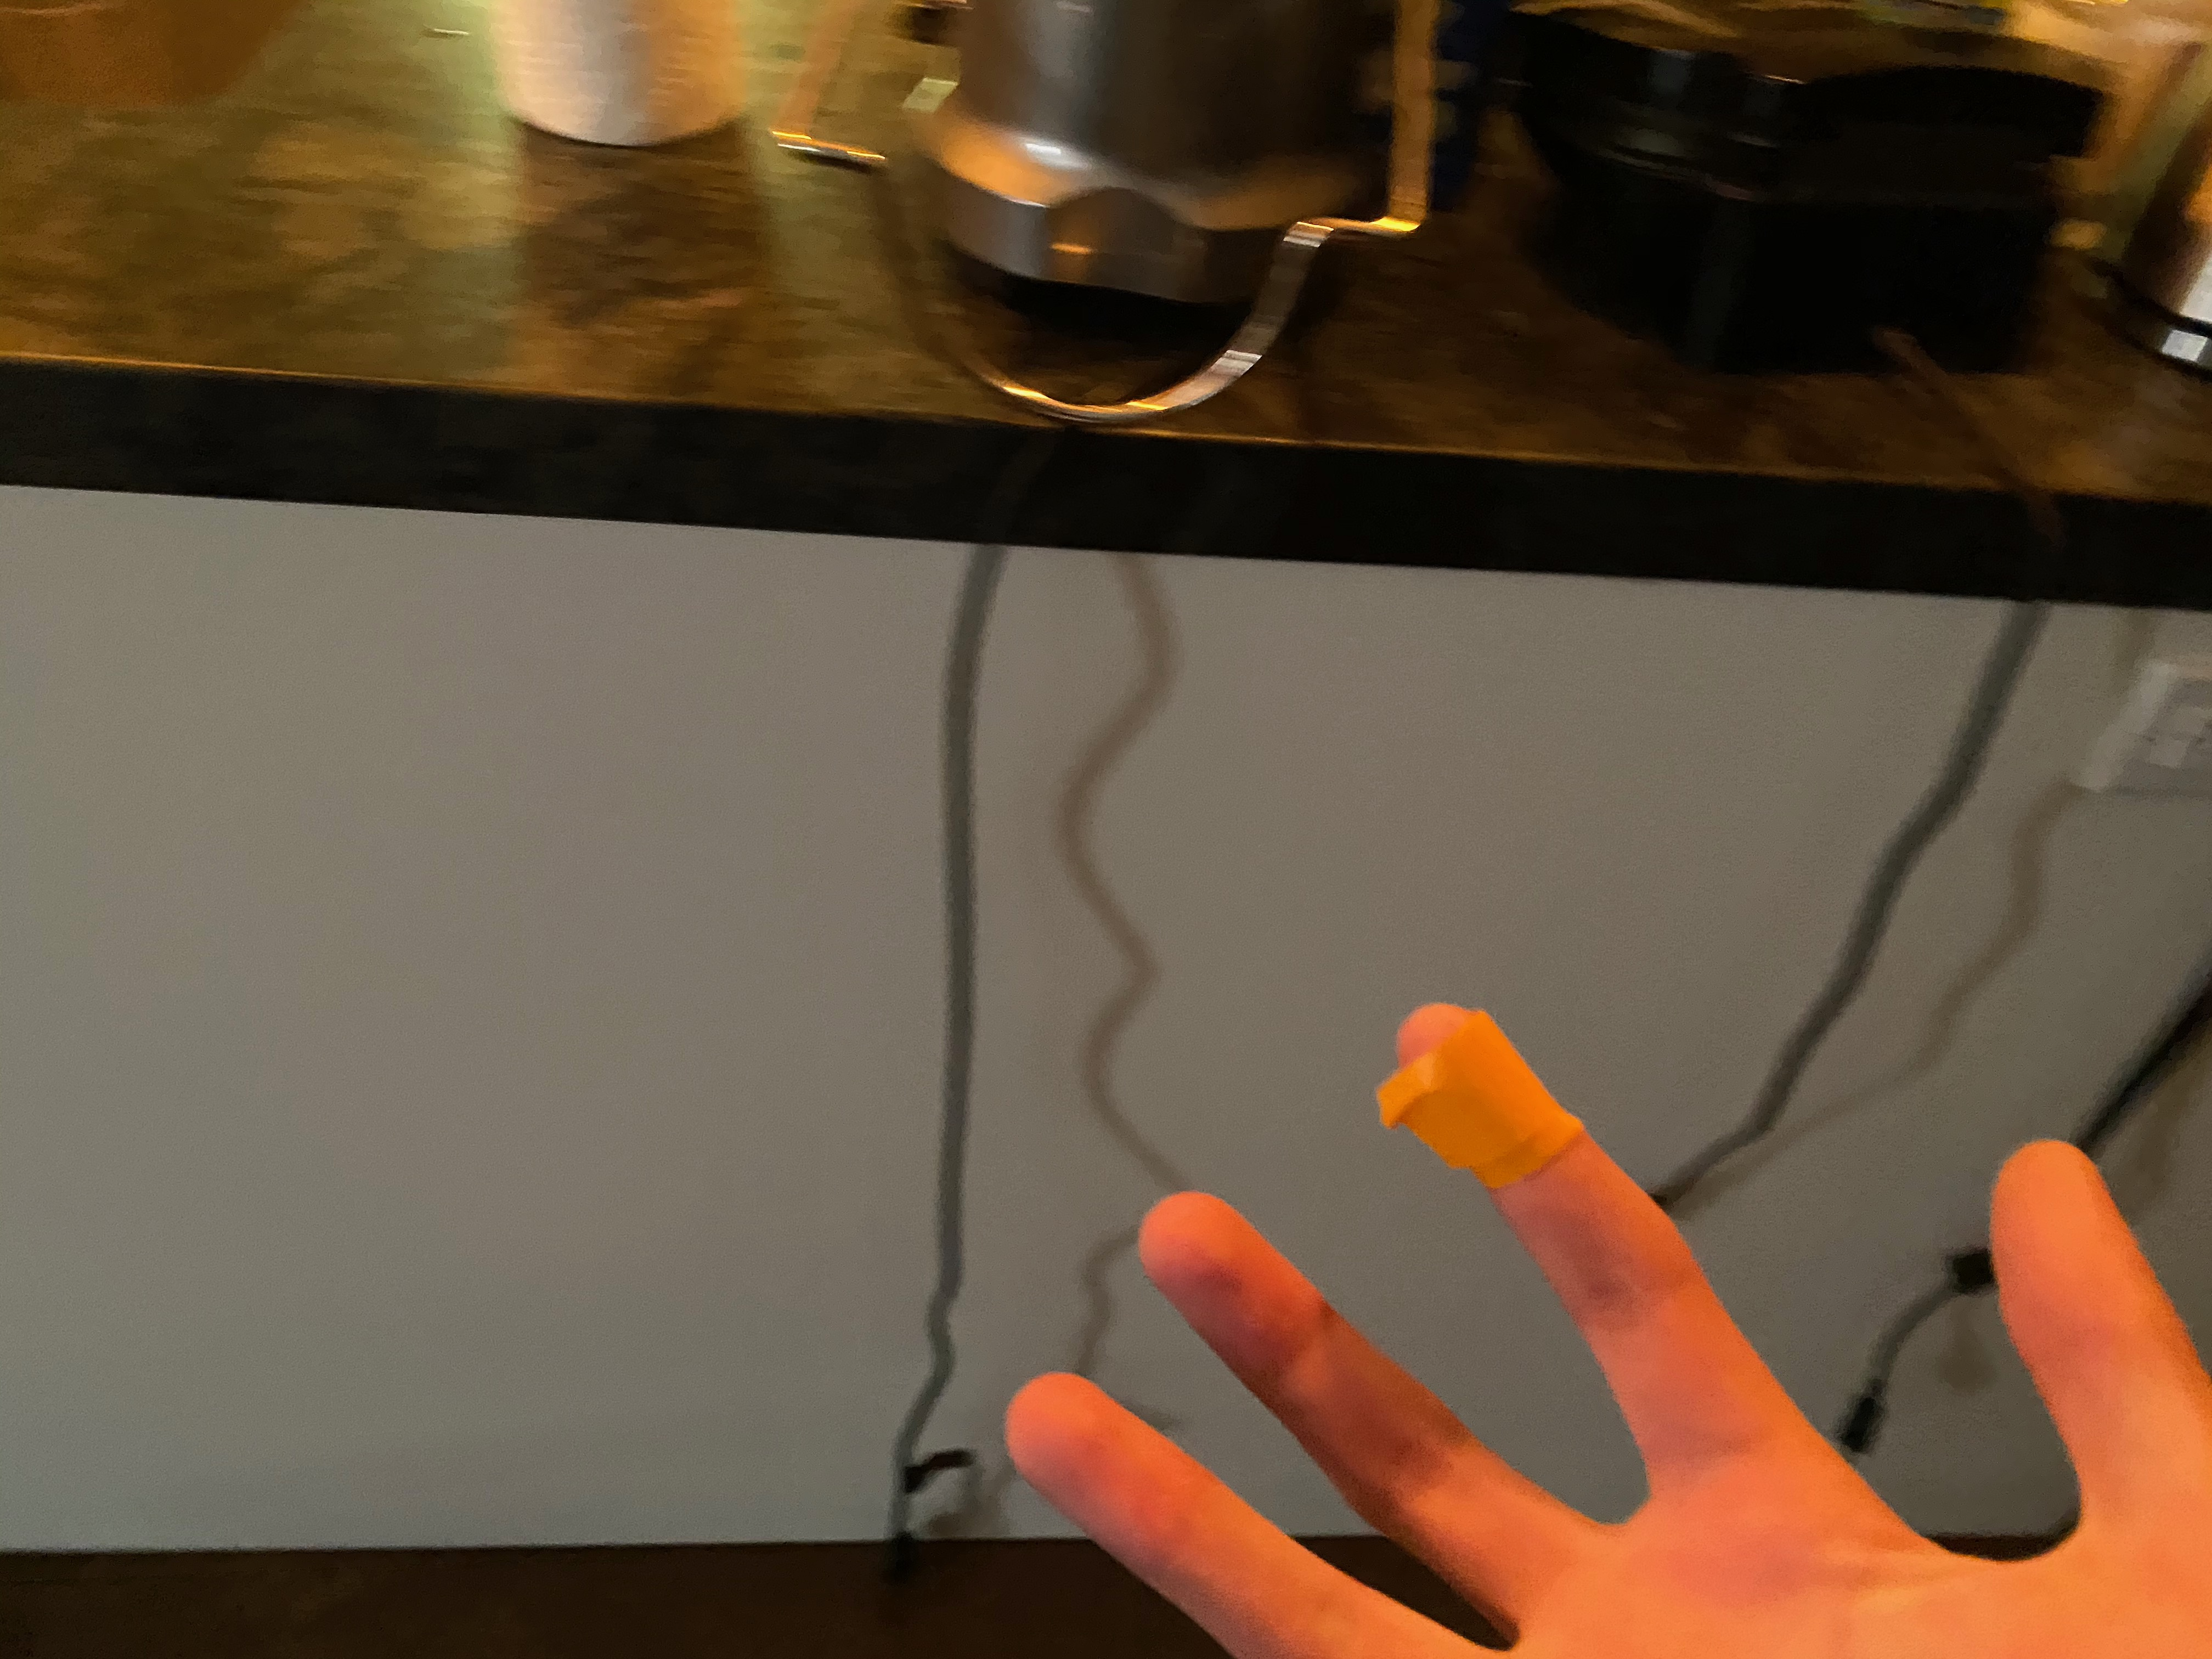fingertip: (1353, 983, 1620, 1225)
